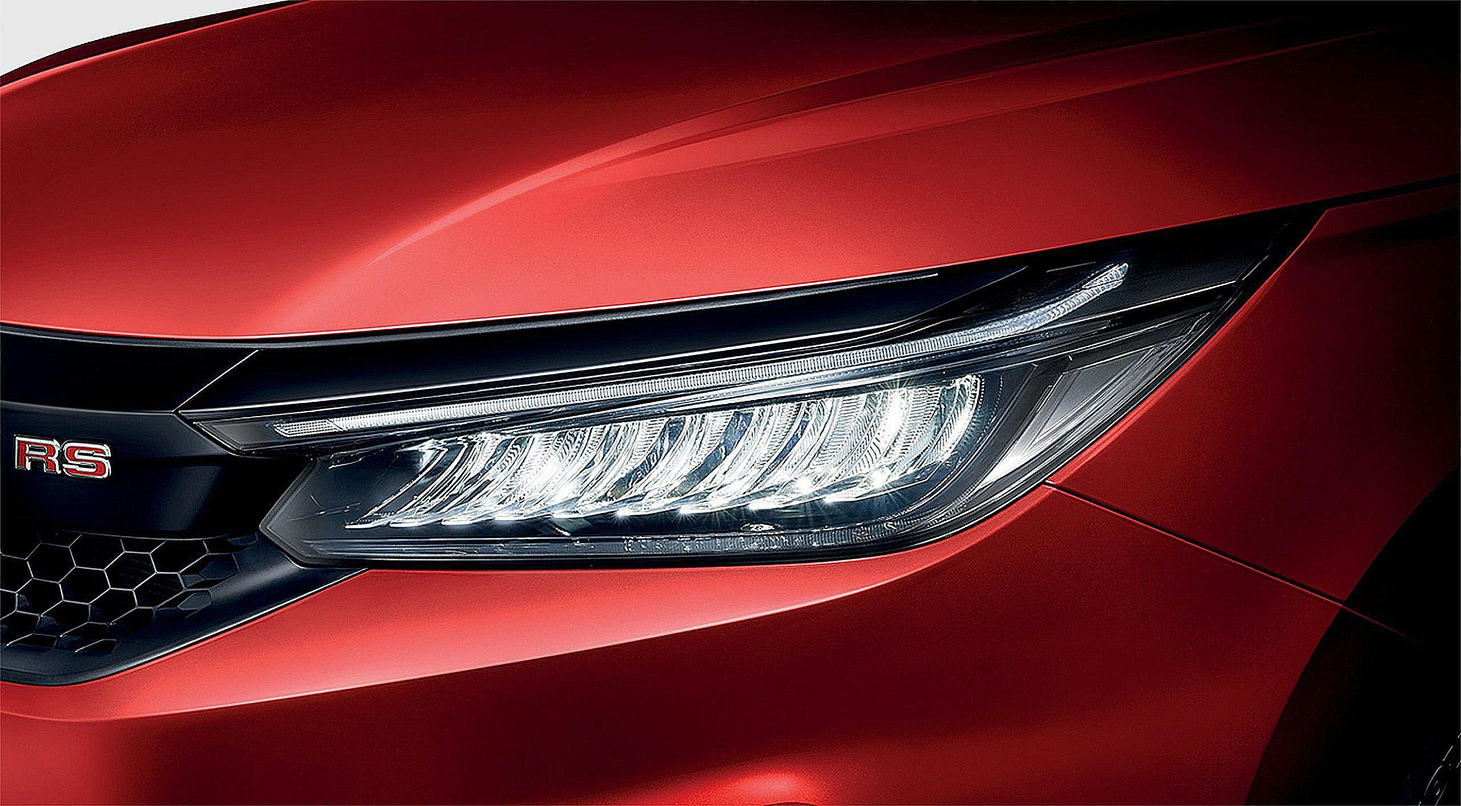Car hood: (0, 0, 1461, 348)
Front bumper: (0, 481, 1389, 806)
Headlight - -L-: (187, 197, 1337, 570)
